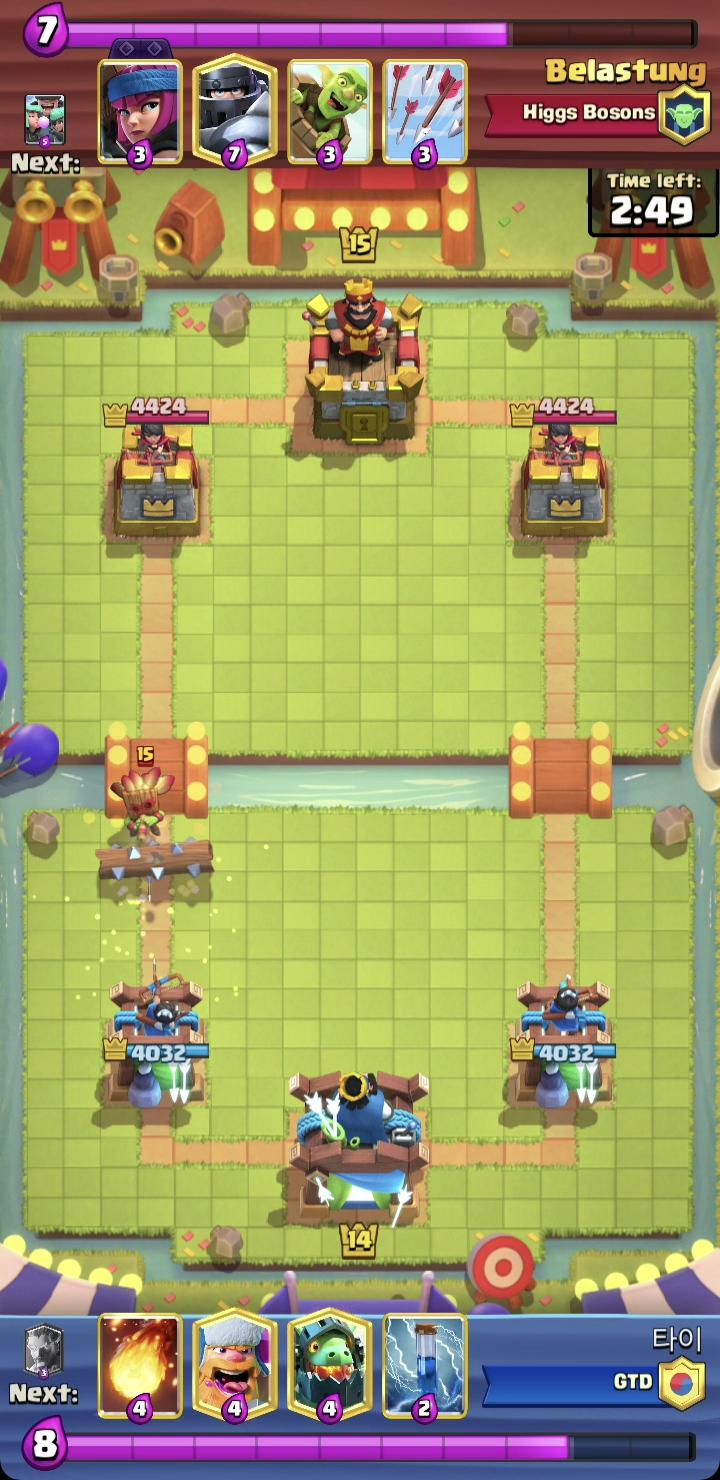ally_log: (95, 834, 217, 886)
enemy_dart_goblin: (110, 744, 176, 852)
